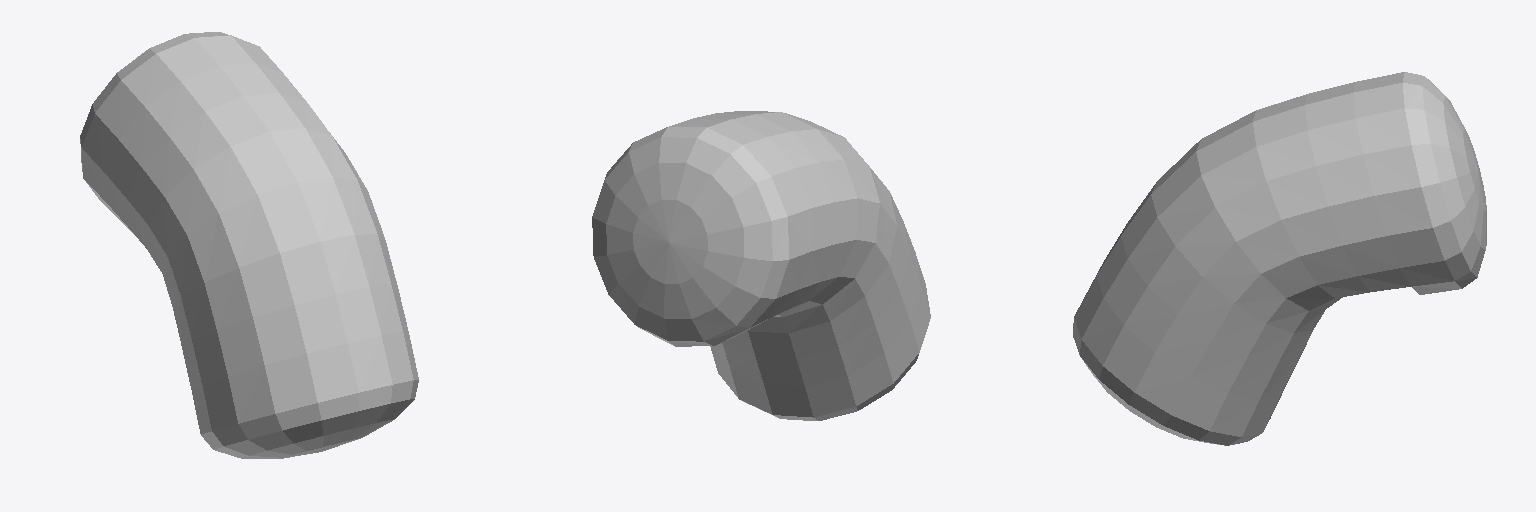
The model's file is punch3.obj.
3 renders of one model, left to right at view 1: azimuth 30°, elevation 25°; view 2: azimuth 150°, elevation 25°; view 3: azimuth 270°, elevation 25°, orthographic.
Parts seen in each view (by area): view 1: Sphere; view 2: Sphere; view 3: Sphere.
Part boxes in pixels (x1,y1,x2,y2): Sphere: (80, 32, 418, 458); Sphere: (592, 111, 930, 420); Sphere: (1073, 72, 1486, 445).
Bounding box in the file's own units: 1 × 1.69 × 1.83.